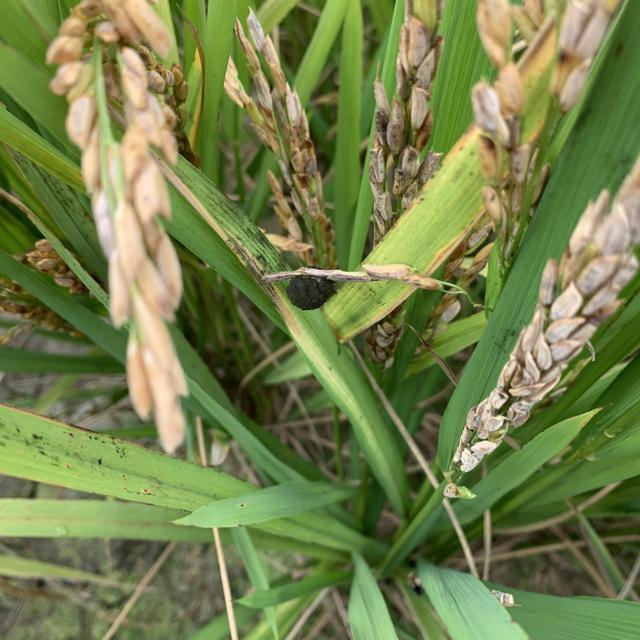Brown_Spot: (474, 167, 639, 460), (234, 9, 316, 206), (365, 10, 443, 216)
Leaf_Scald: (284, 268, 339, 312)
